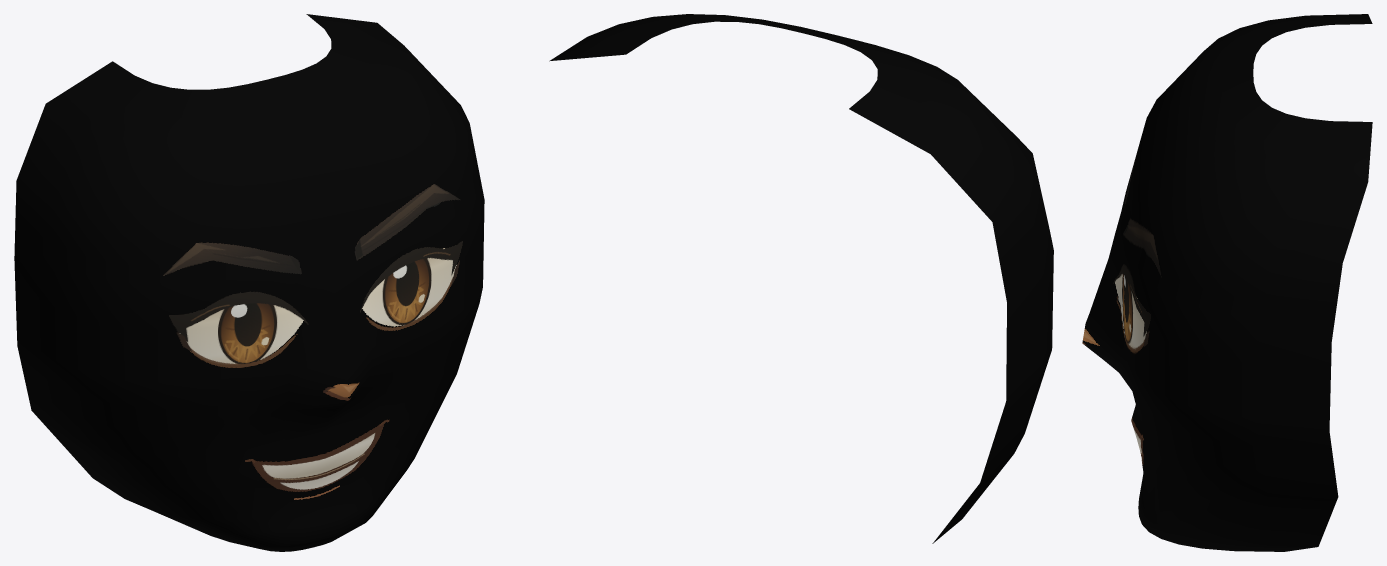
File: face-grin.glb
The picture shows the model from 3 angles, left to right: view 1: azimuth 30°, elevation 25°; view 2: azimuth 150°, elevation 25°; view 3: azimuth 270°, elevation 25°; orthographic projection. The views are drawn at different scales.
Parts seen in each view (by area): view 1: Painted expression.001; view 2: Painted expression.001; view 3: Painted expression.001.
Part boxes in pixels (bbox=[...]): Painted expression.001: bbox=[14, 14, 484, 551]; Painted expression.001: bbox=[549, 14, 1053, 543]; Painted expression.001: bbox=[1082, 14, 1372, 551].
Size of the model in its own units: 0.466 by 0.45 by 0.2627.
1 material, 1 textured.
